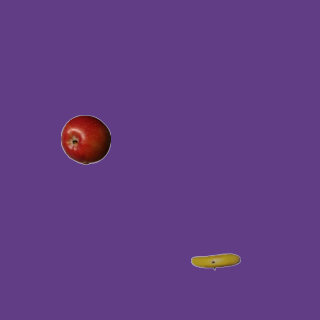Apple Braeburn: (60, 114, 110, 164)
Banana: (190, 236, 240, 286)
